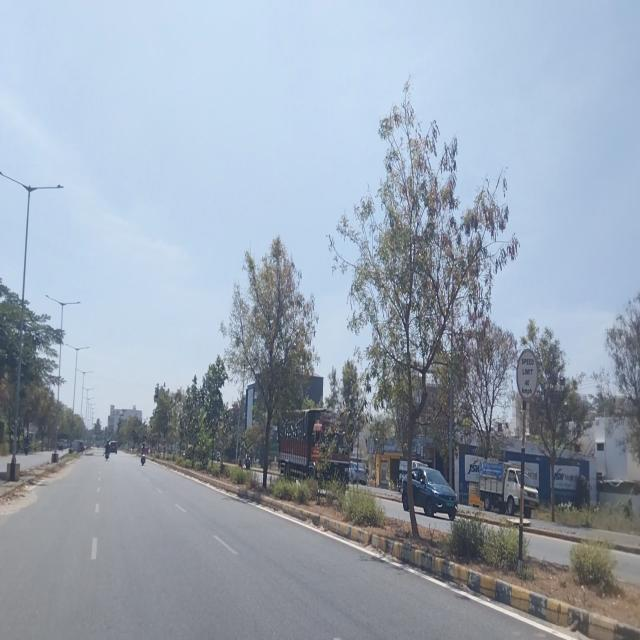bien_cam: (516, 348, 540, 401)
